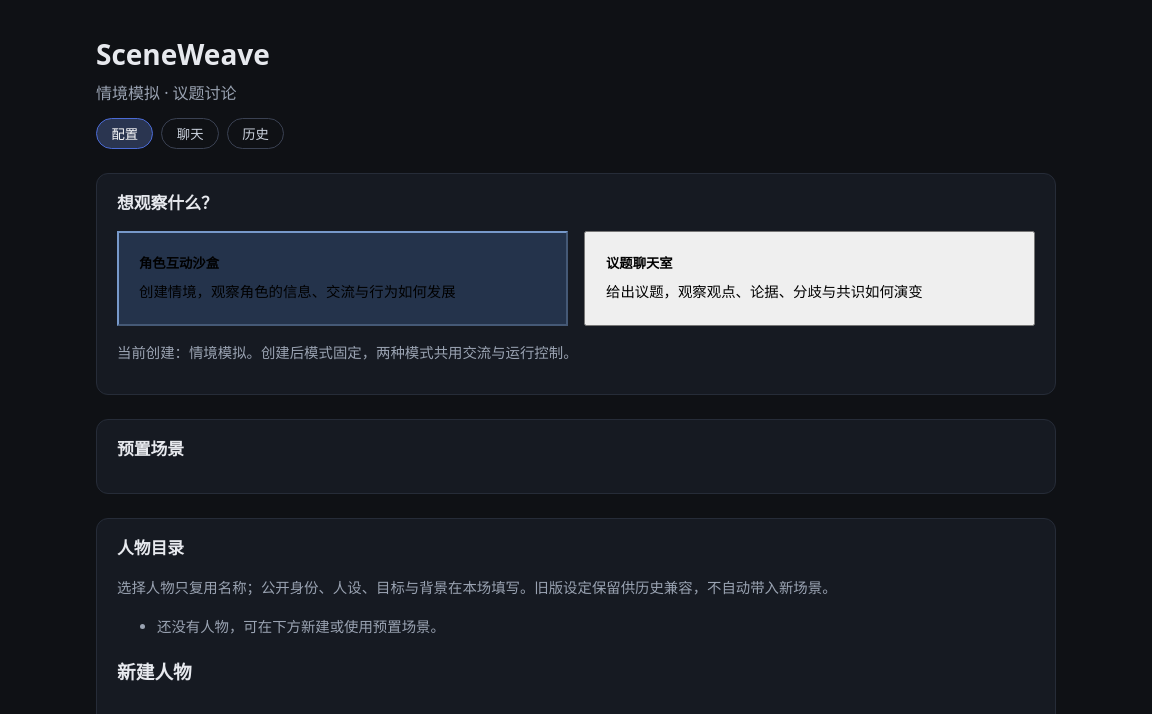
Test: 应用外壳 › 切换到聊天页时给出可执行的下一步，而不是假内容
This screenshot has width=1152, height=714.
Step 1. Click the button "聊天" → click(190, 134), box [161,118,219,149]
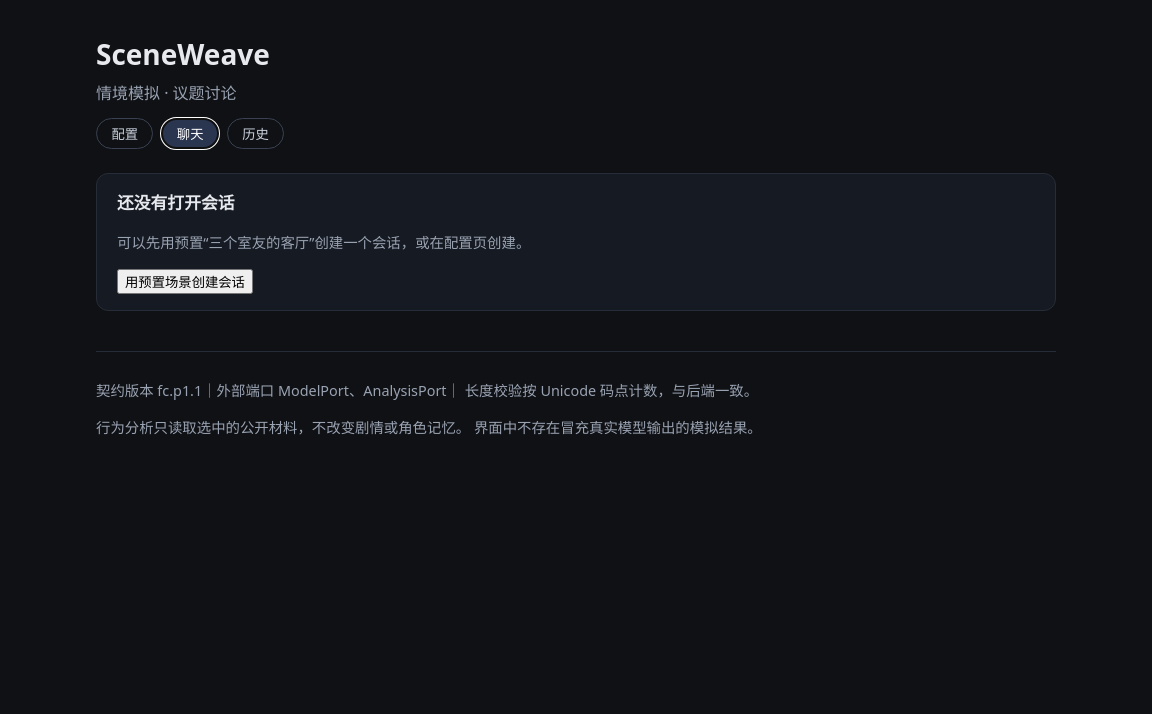
Check: the heading "还没有打开会话" is shown, box [117,191,234,214]
Check: the button "用预置场景创建会话" is shown, box [117,269,253,294]
